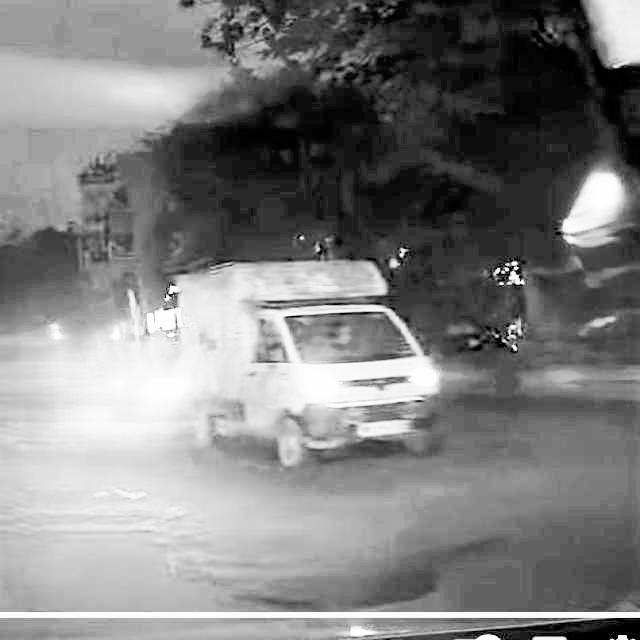Truck: (155, 256, 441, 469)
